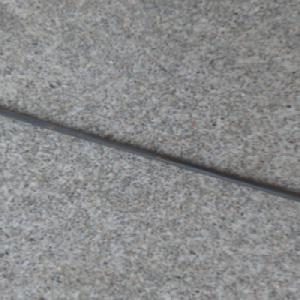LuggagePart: (0, 106, 300, 202)
